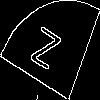Z: (25, 25, 62, 81)
